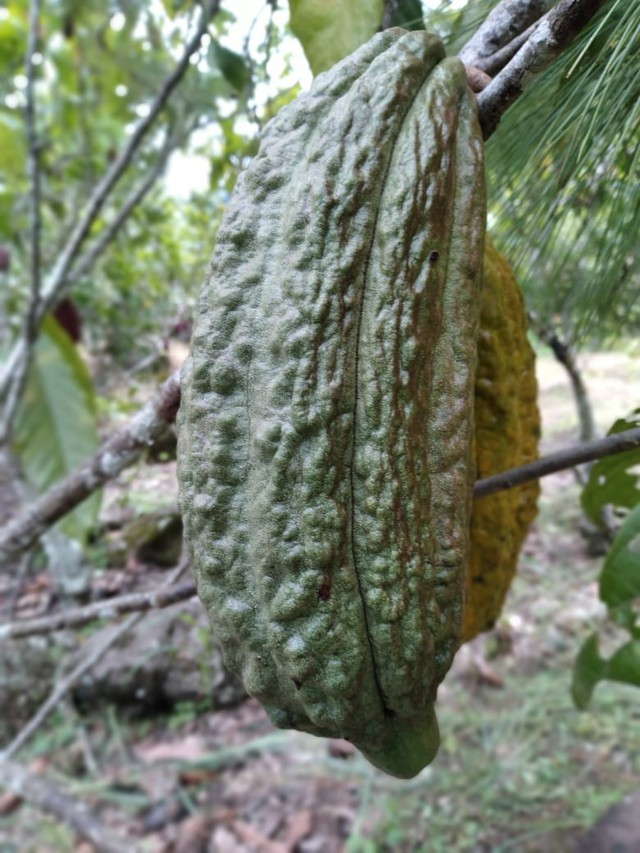Health: (164, 21, 499, 781)
